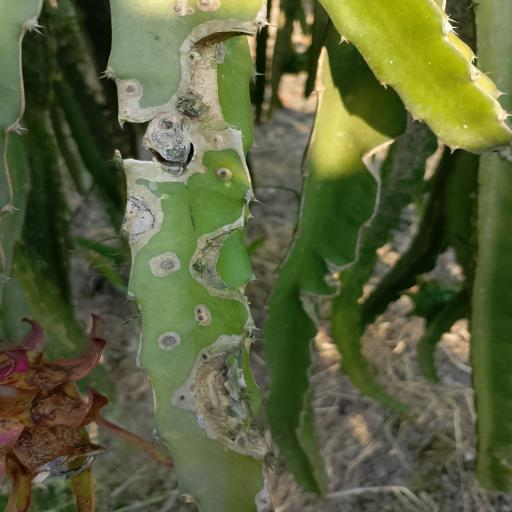stemcanker: (194, 304, 215, 327), (220, 182, 234, 188), (161, 193, 174, 199), (222, 182, 234, 188), (162, 193, 170, 200), (461, 125, 471, 130), (220, 72, 226, 79), (388, 59, 394, 65)
